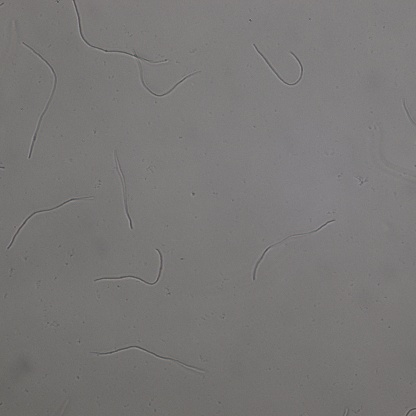Sensitive: (66, 1, 166, 63), (253, 220, 333, 280), (7, 196, 94, 248), (22, 41, 58, 161), (133, 49, 201, 97), (91, 345, 203, 372), (94, 248, 164, 286), (254, 45, 304, 86), (113, 152, 133, 229)
